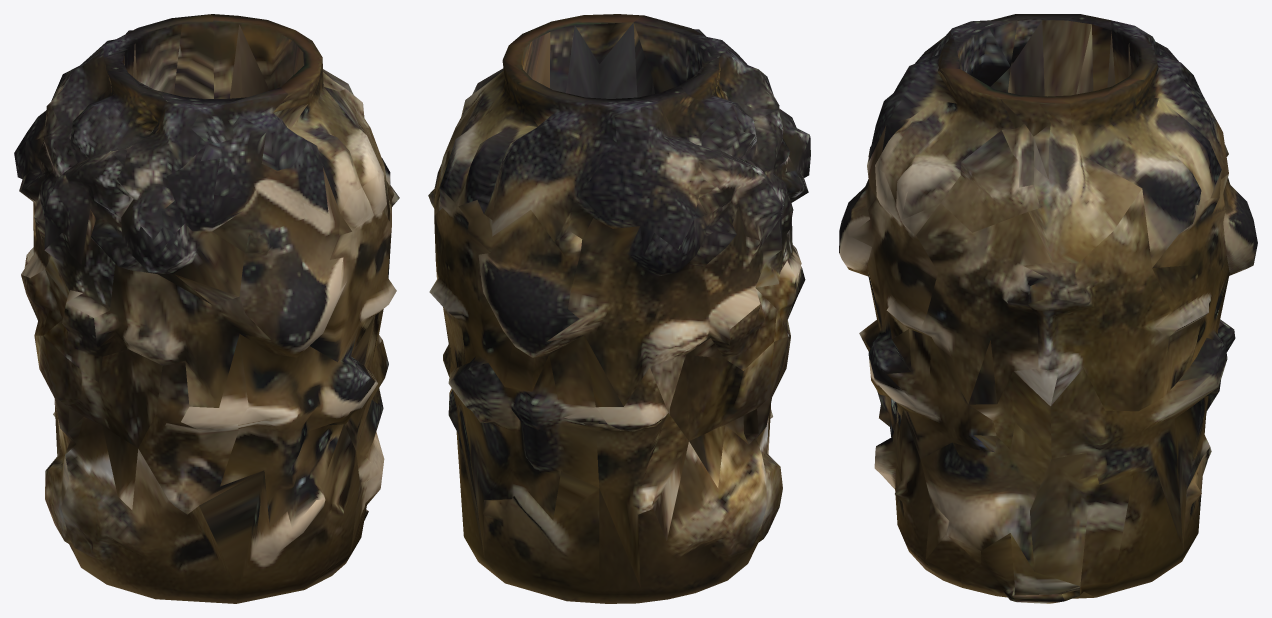
The model's file is MaterialPlace_02.glb.
The picture shows the model from 3 angles, left to right: view 1: azimuth 30°, elevation 25°; view 2: azimuth 150°, elevation 25°; view 3: azimuth 270°, elevation 25°; orthographic projection.
Visible parts, largest first — view 1: Meshy_AI_Row_of_Earthy_Ceramic_0509115641_texture.001; view 2: Meshy_AI_Row_of_Earthy_Ceramic_0509115641_texture.001; view 3: Meshy_AI_Row_of_Earthy_Ceramic_0509115641_texture.001.
Boxes of the visible parts, x1,y1,x2,y2 form: Meshy_AI_Row_of_Earthy_Ceramic_0509115641_texture.001: (14,14,399,603); Meshy_AI_Row_of_Earthy_Ceramic_0509115641_texture.001: (428,14,810,603); Meshy_AI_Row_of_Earthy_Ceramic_0509115641_texture.001: (839,14,1257,603).
Bounding box in the file's own units: 0.3088 × 0.4162 × 0.3261.
Materials: 1 (1 with a texture image).
